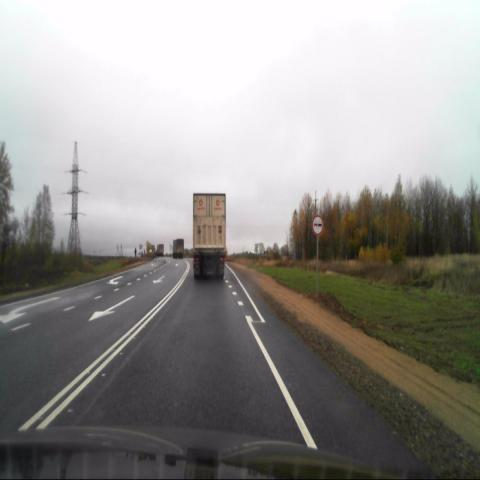3_20: (311, 214, 323, 236)
